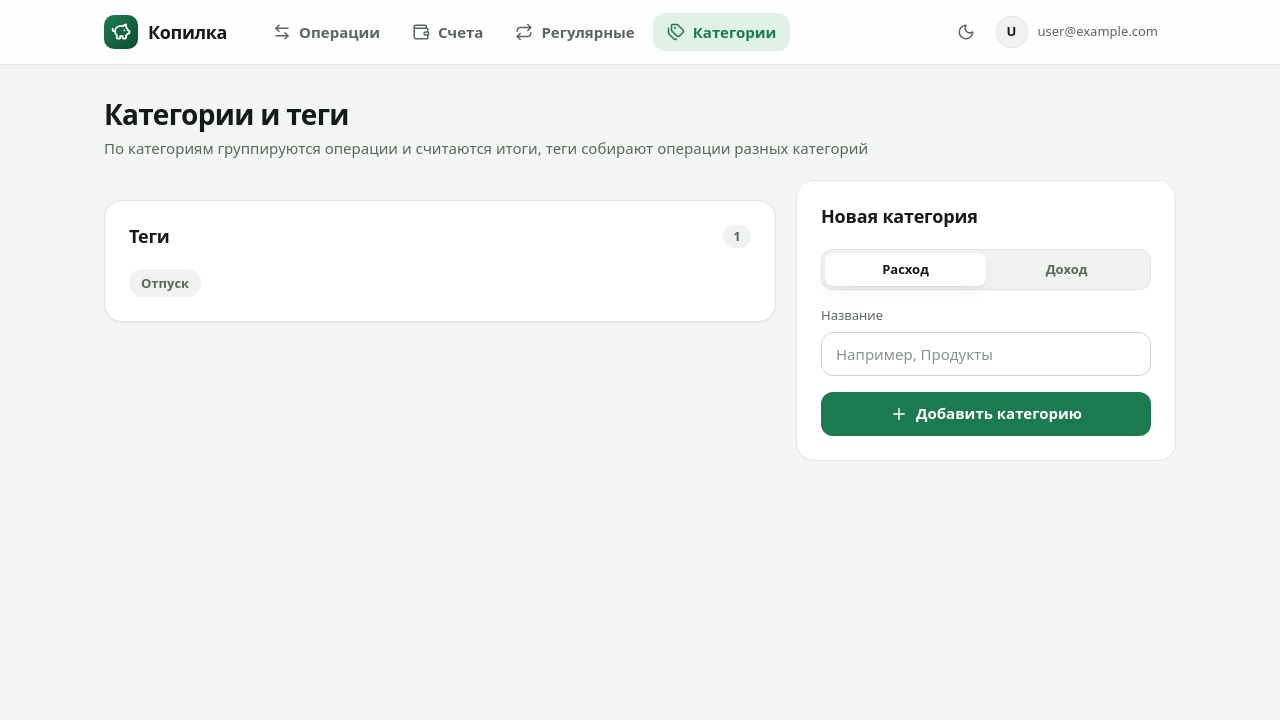
Test: CategoriesPage › tags › deletes a tag after confirmation
Click the button "Отпуск".
click(165, 283)  # box x1=129 y1=268 x2=201 y2=297
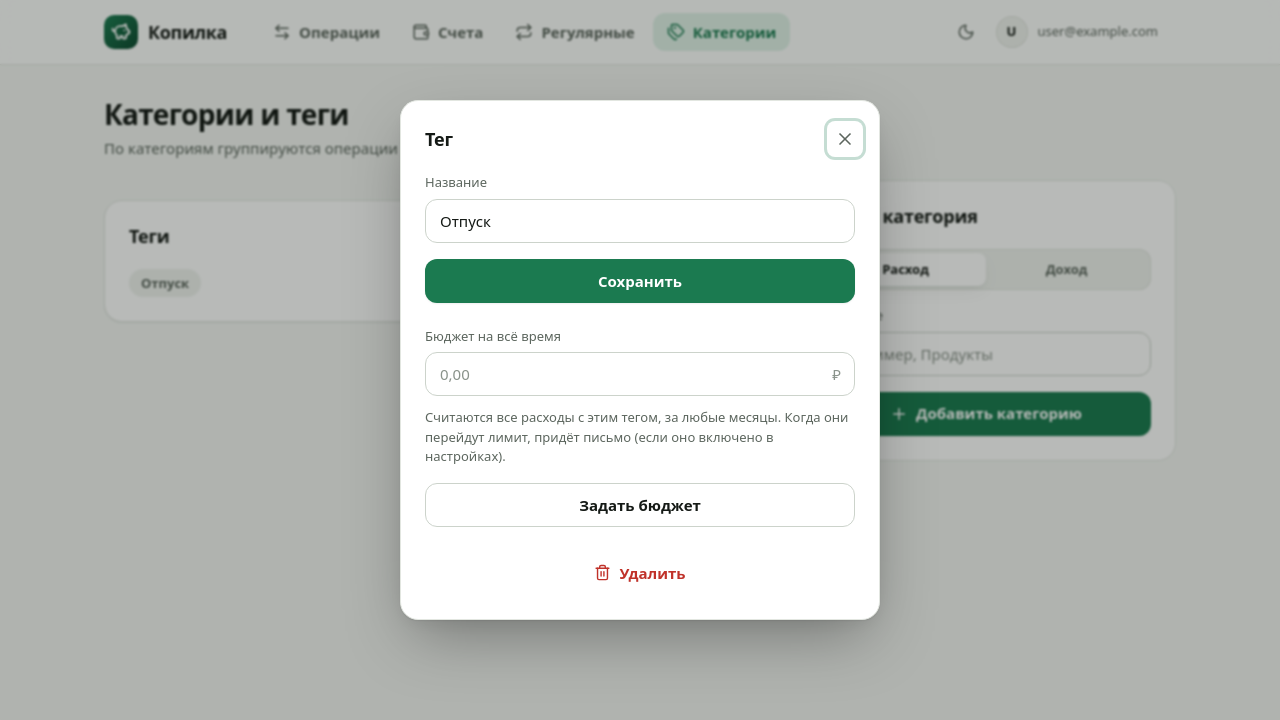
Click the button with aria-label "Удалить тег «Отпуск»".
click(640, 573)  # box x1=425 y1=551 x2=855 y2=595
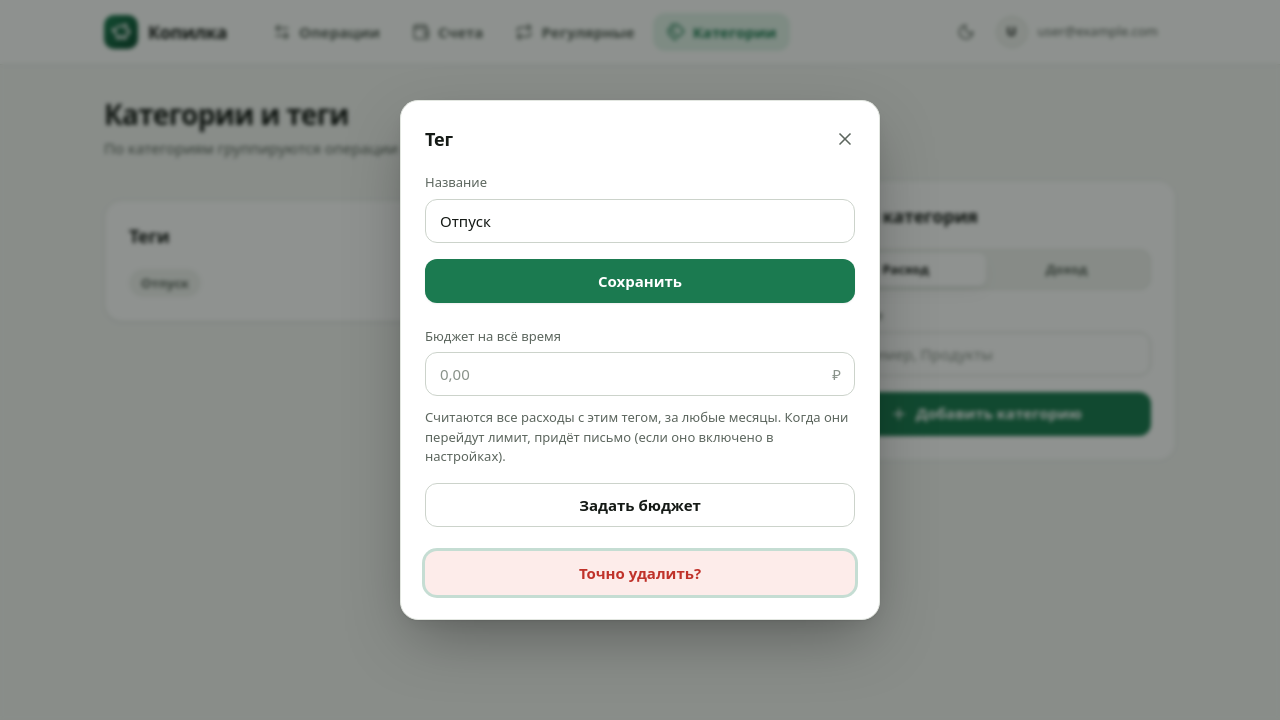
Click the button with aria-label "Подтвердите: Удалить тег «Отпуск»".
click(640, 573)  # box x1=425 y1=551 x2=855 y2=595
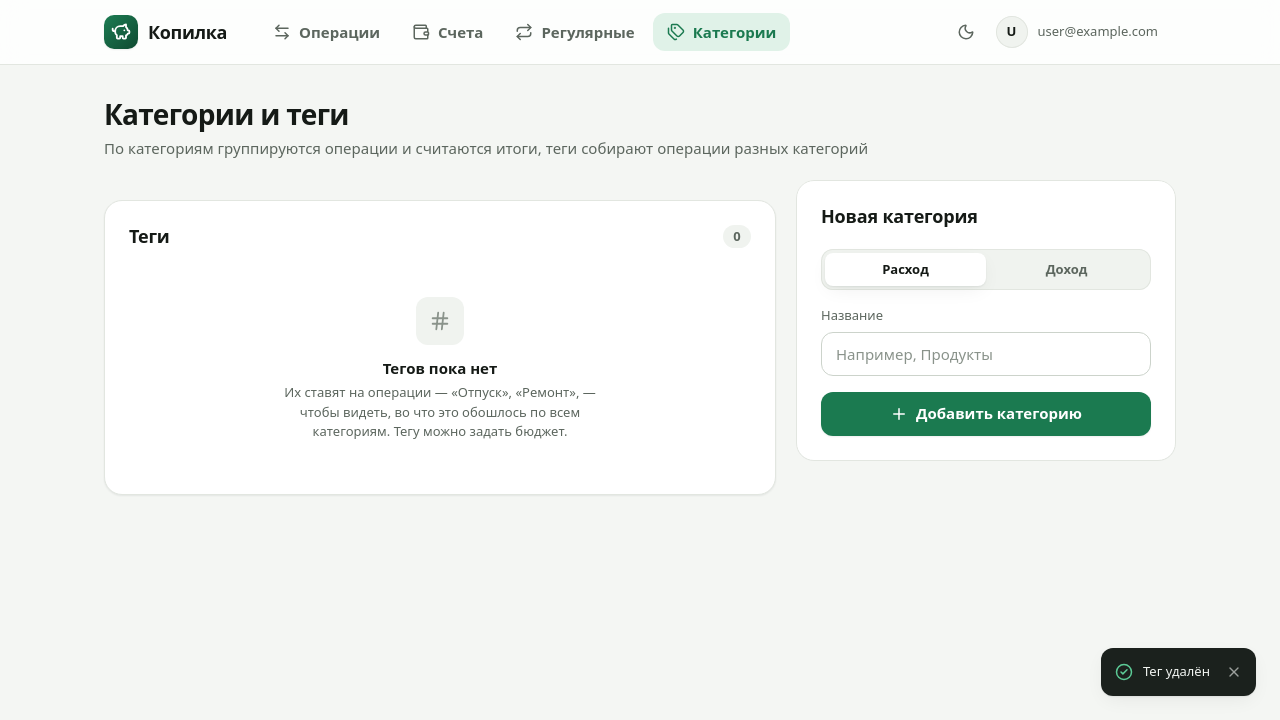
Expected: the text "Тегов пока нет" is shown, x1=383 y1=356 x2=497 y2=379
